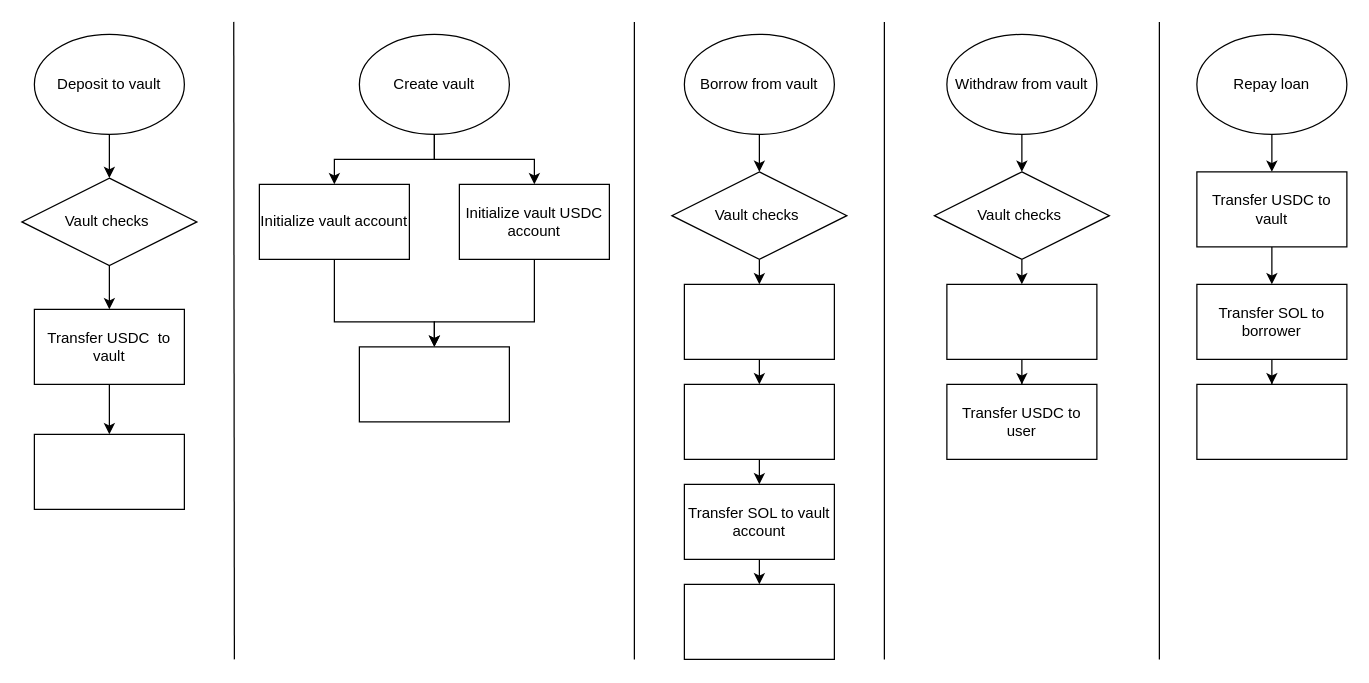
Image size: 1369x683. Some labels were removed from this diagram. The centre of each missing label's shape, as x and y in pixels:
Burn vault tokens: [1021,321]
Initialize Loan account: [758,321]
Set initial vault parameters: [433,384]
Set loan parameters: [758,421]
Transfer USDC to borrower: [758,621]
Transfer vault tokens to user: [108,471]
Update loan account: [1271,421]
